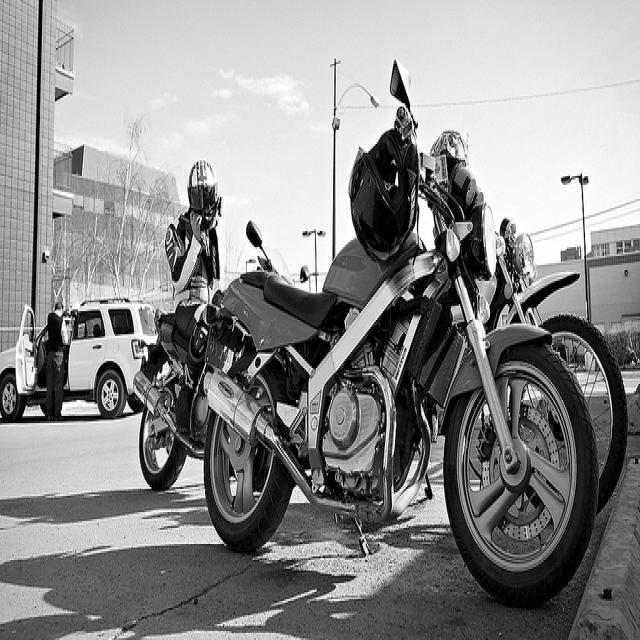motor: (203, 59, 598, 605), (480, 209, 630, 522), (132, 306, 213, 493)
